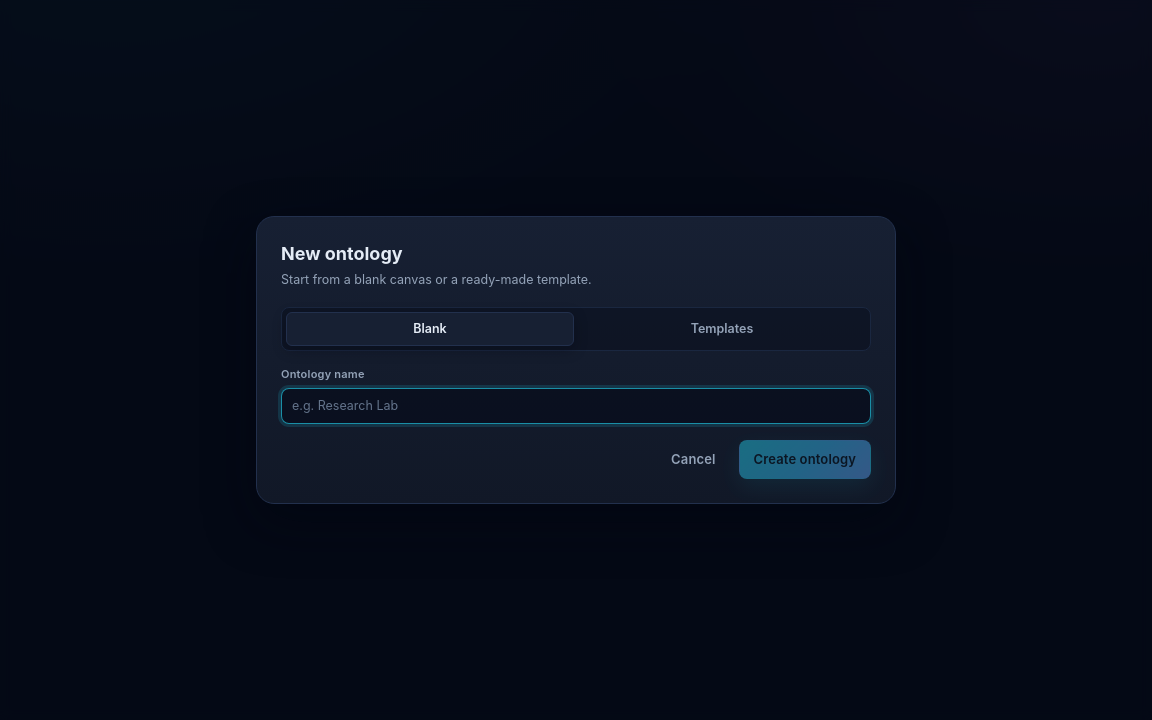
Test: NewOntologyDialog template picker › keeps the blank tab create flow intact and cancel invokes onClose
Later steps or results of the test are not shown.
Click the tab with test id "template-tab-templates".
click(722, 329)  # box [578,312,866,346]
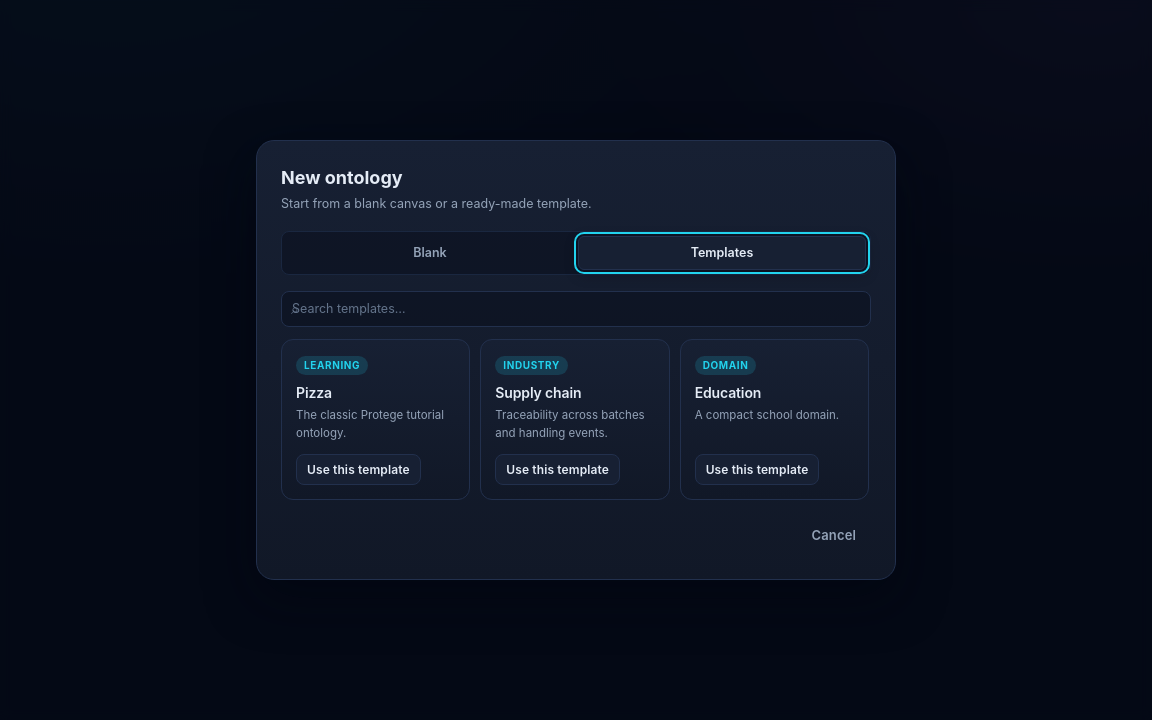
Click the tab with test id "template-tab-blank".
click(430, 253)  # box [286,236,574,270]
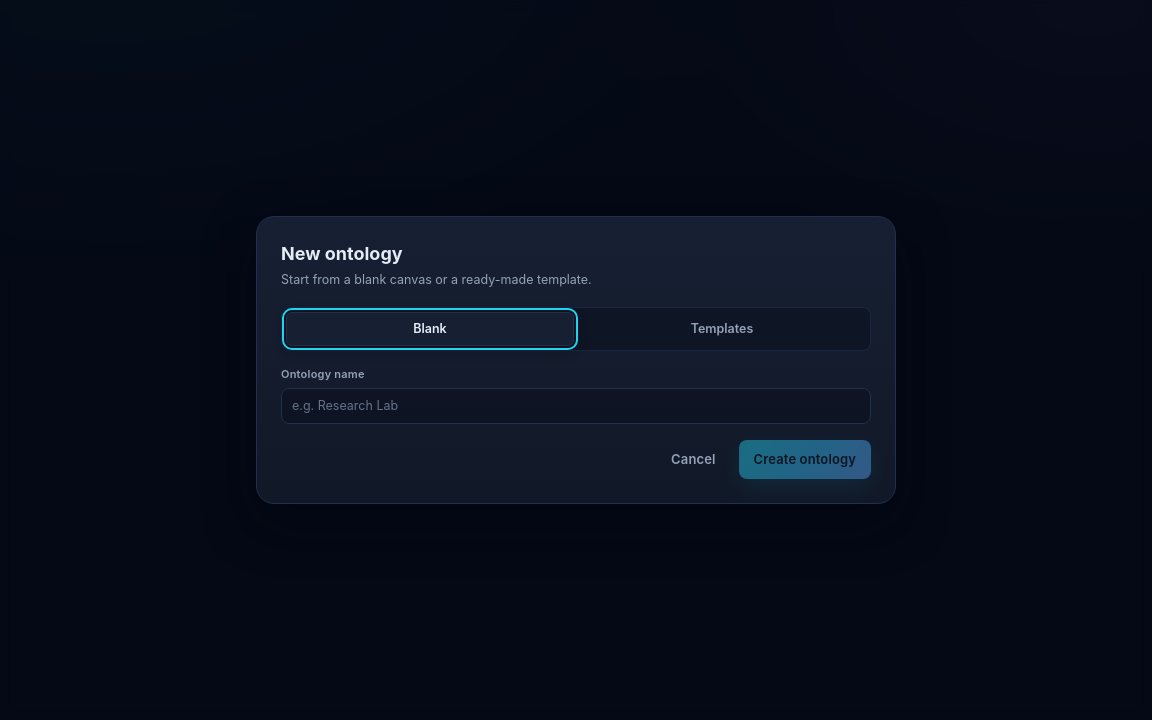
Check: the field with test id "input-ontology-name" is shown, box [281,388,871,424]
